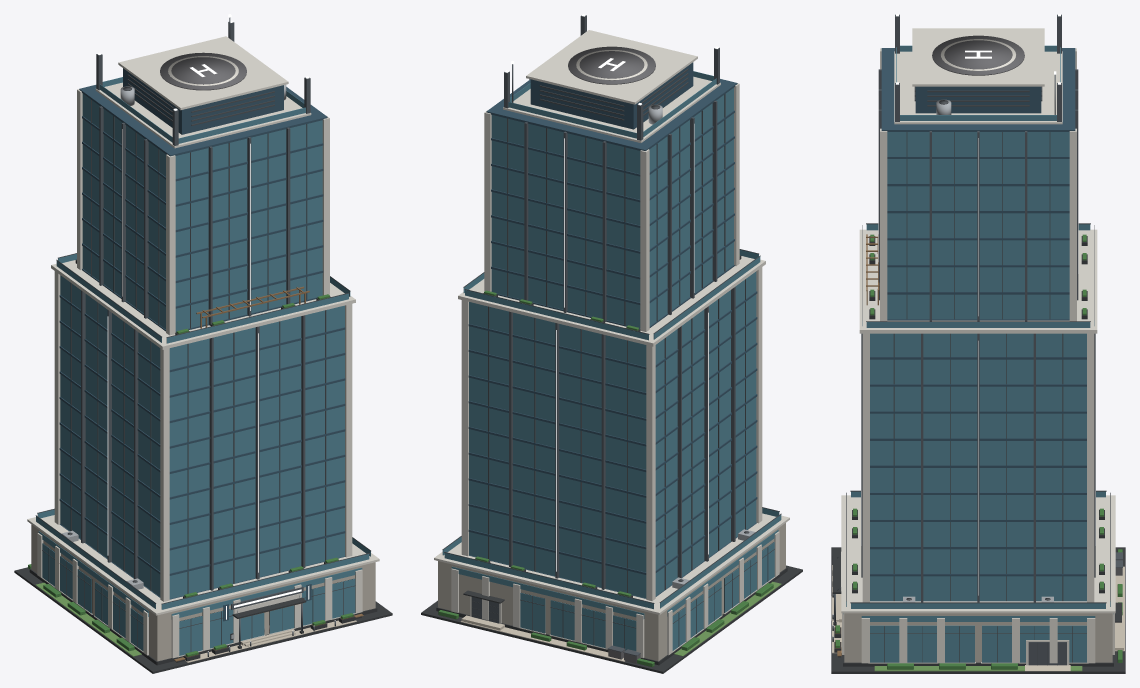
Rendered from glass_tower.glb.
3 renders of one model, left to right at view 1: azimuth 30°, elevation 25°; view 2: azimuth 150°, elevation 25°; view 3: azimuth 270°, elevation 25°, orthographic. The views are drawn at different scales.
Visible parts, largest first — view 1: tower_curtain_glass, tower_curtain_glass.004, tower_curtain_glass.002, tower_curtain_glass.006, tower_mechanical_roof, tower_podium, tower_mechanical_penthouse, tower_podium_cornice, tower_setback_slab, tower_floor_spandrel.018, tower_corner_pier, tower_crown_frame (+49 smaller); view 2: tower_curtain_glass.001, tower_curtain_glass.005, tower_curtain_glass.002, tower_curtain_glass.006, tower_podium, tower_mechanical_roof, tower_mechanical_penthouse, tower_podium_cornice, tower_setback_slab, tower_floor_spandrel.018, tower_corner_pier.001, tower_crown_frame (+48 smaller); view 3: tower_curtain_glass.003, tower_curtain_glass.007, tower_podium_cornice, tower_setback_slab, tower_mechanical_roof, tower_floor_spandrel.018, tower_podium, tower_crown_frame, tower_mechanical_penthouse, tower_corner_pier.002, tower_corner_pier.003, tower_lot_plinth (+43 smaller).
Boxes of the visible parts, box(x1,y1,x2,y2) form: tower_curtain_glass: box(169, 305, 344, 598); tower_curtain_glass.004: box(175, 120, 322, 331); tower_curtain_glass.002: box(60, 275, 160, 596); tower_curtain_glass.006: box(82, 93, 165, 329); tower_mechanical_roof: box(118, 36, 288, 110); tower_podium: box(31, 524, 375, 661); tower_mechanical_penthouse: box(123, 68, 283, 134); tower_podium_cornice: box(27, 515, 379, 615); tower_setback_slab: box(51, 260, 355, 349); tower_floor_spandrel.018: box(79, 85, 327, 156); tower_corner_pier: box(160, 348, 169, 601); tower_crown_frame: box(95, 82, 311, 148); tower_curtain_glass.001: box(469, 302, 646, 598); tower_curtain_glass.005: box(491, 115, 640, 328); tower_curtain_glass.002: box(655, 271, 756, 595); tower_curtain_glass.006: box(649, 88, 733, 325); tower_podium: box(438, 523, 785, 661); tower_mechanical_roof: box(526, 30, 697, 104); tower_mechanical_penthouse: box(530, 62, 693, 129); tower_podium_cornice: box(434, 513, 789, 614); tower_setback_slab: box(458, 256, 765, 346); tower_floor_spandrel.018: box(486, 79, 737, 150); tower_corner_pier.001: box(646, 345, 655, 600); tower_crown_frame: box(503, 76, 720, 142); tower_curtain_glass.003: box(870, 333, 1086, 600); tower_curtain_glass.007: box(887, 132, 1069, 318); tower_podium_cornice: box(841, 495, 1115, 613); tower_setback_slab: box(859, 229, 1097, 333); tower_mechanical_roof: box(912, 28, 1044, 86); tower_floor_spandrel.018: box(881, 48, 1075, 131); tower_podium: box(844, 613, 1112, 662); tower_crown_frame: box(894, 51, 1062, 124); tower_mechanical_penthouse: box(915, 86, 1041, 113); tower_corner_pier.002: box(862, 333, 869, 602); tower_corner_pier.003: box(1087, 333, 1094, 602); tower_lot_plinth: box(831, 547, 1125, 673).
Size of the model in its own units: 34 by 72.9 by 34.
